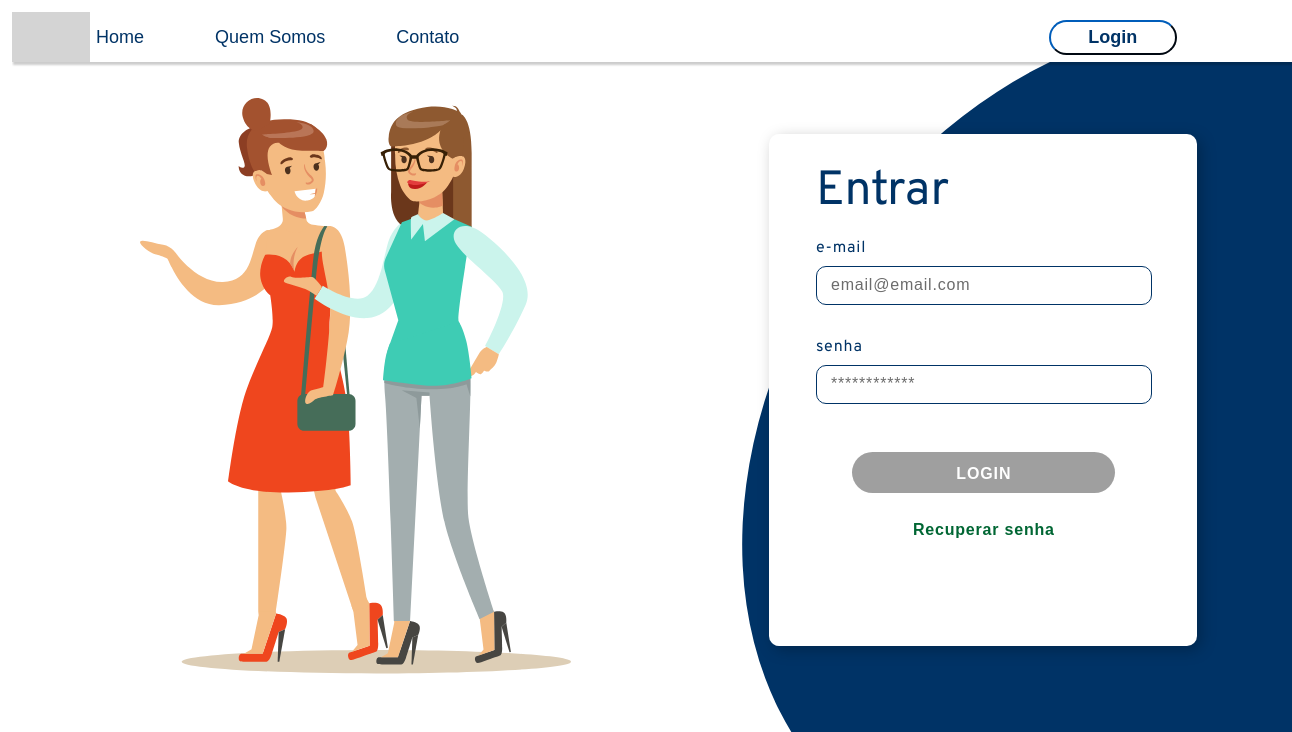
Test case: Login Component › should display login error for invalid credentials
// Preencher campos de e-mail e senha com valores válidos
Type "teste@teste.com" into the field with placeholder "email@email.com" at x=984, y=286, box [816, 266, 1152, 305]
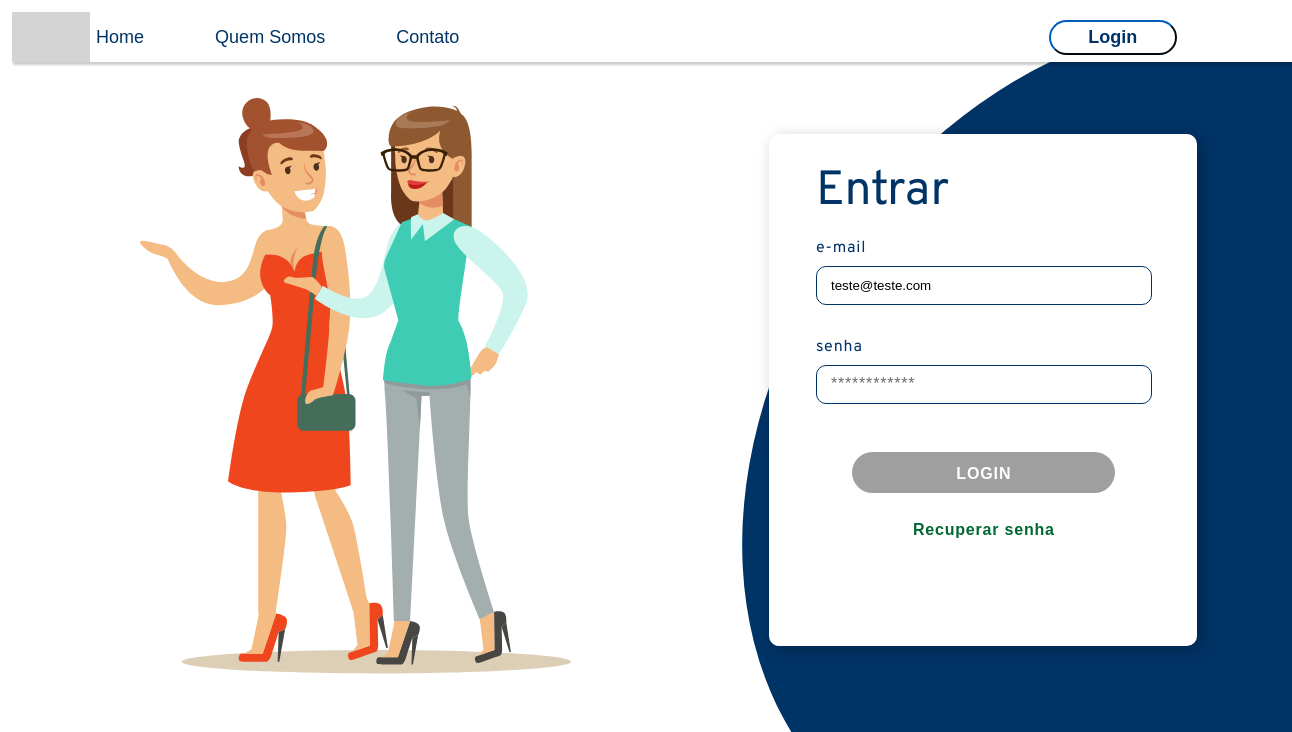
Type "senha123" into the password field with placeholder "************" at x=984, y=385, box [816, 365, 1152, 404]
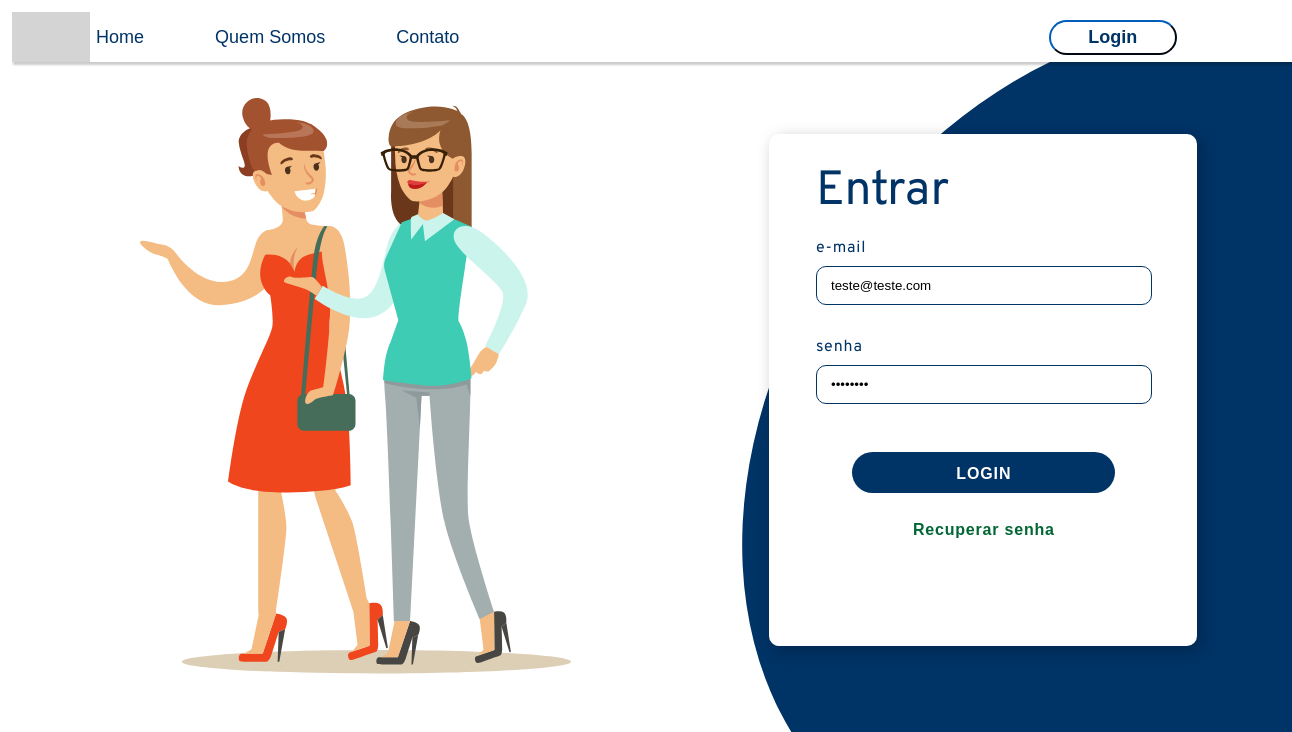
// Simular o envio do formulário
Submit the form from the button "LOGIN", box [852, 452, 1115, 493]
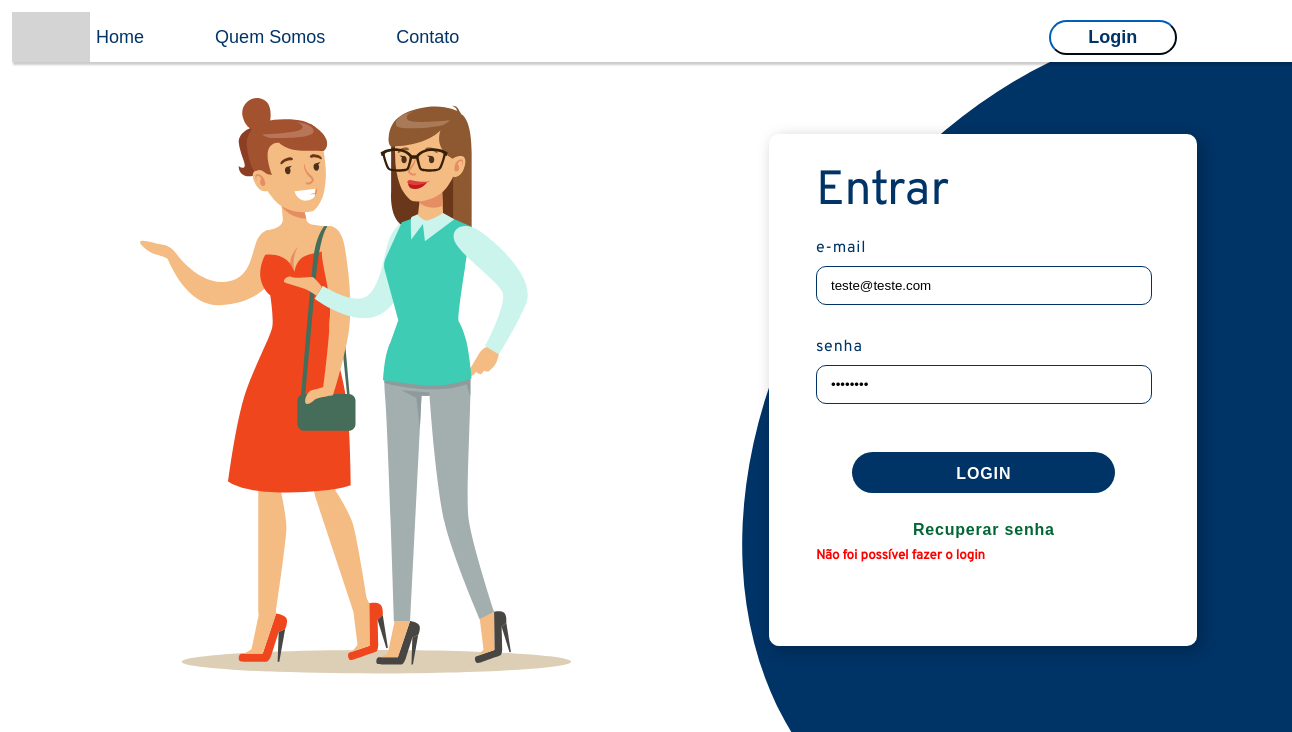
Result: the heading "Não foi possível fazer o login" is shown at [816, 547, 985, 564]
